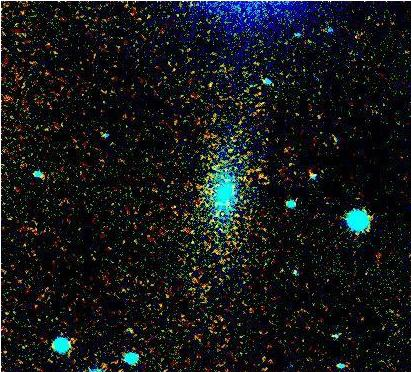star: (195, 73, 225, 103)
